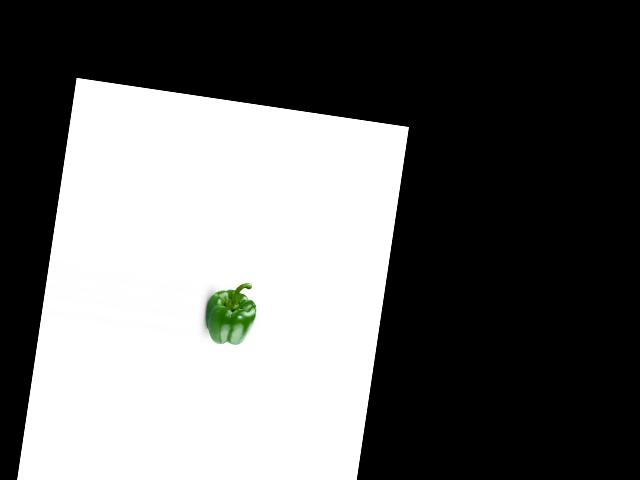bell_pepper: (202, 276, 261, 350)
